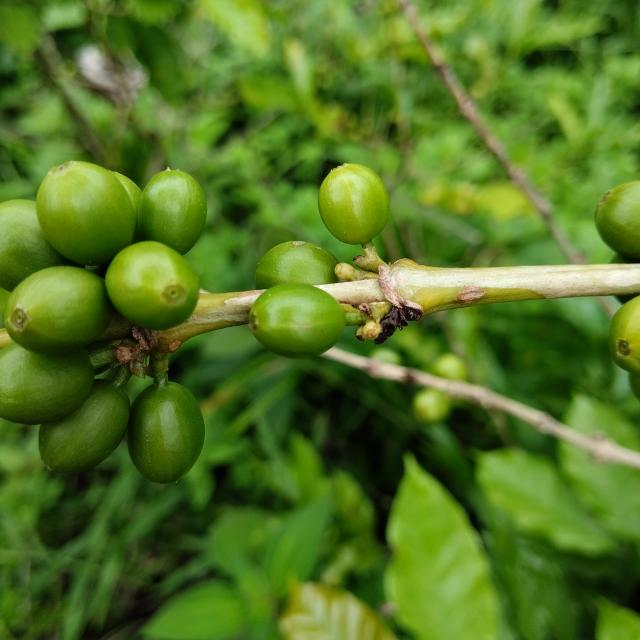green: (35, 161, 136, 265), (3, 266, 113, 356), (38, 380, 130, 473), (105, 241, 199, 330), (127, 381, 205, 484), (0, 344, 94, 425), (249, 284, 346, 359), (0, 199, 71, 291), (137, 169, 207, 254), (318, 163, 390, 244), (255, 241, 339, 289), (596, 180, 640, 261), (611, 296, 640, 375), (110, 171, 141, 214)
